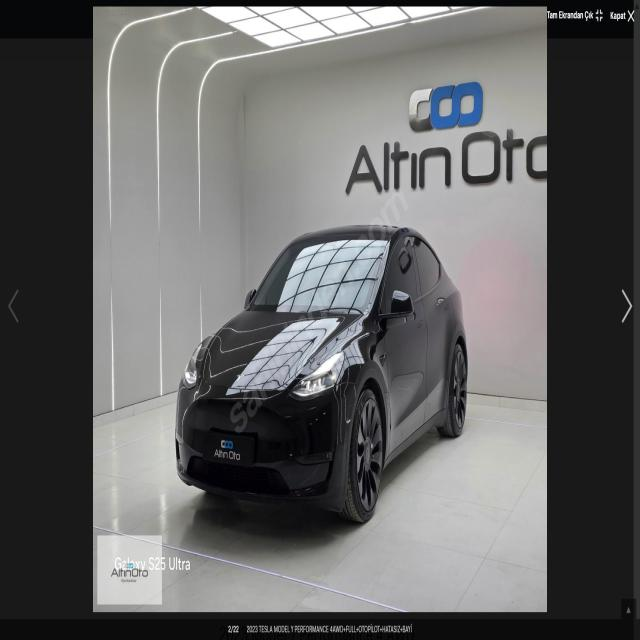tesla: (229, 365, 247, 389)
